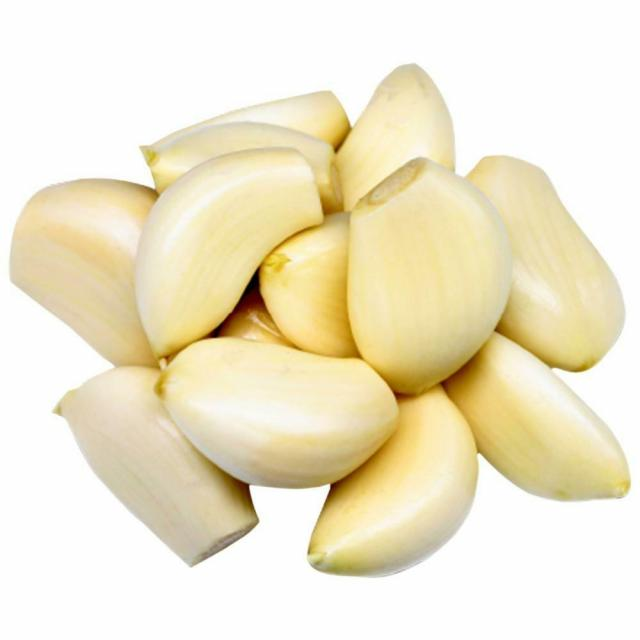Garlic bulb: (5, 59, 639, 600)
